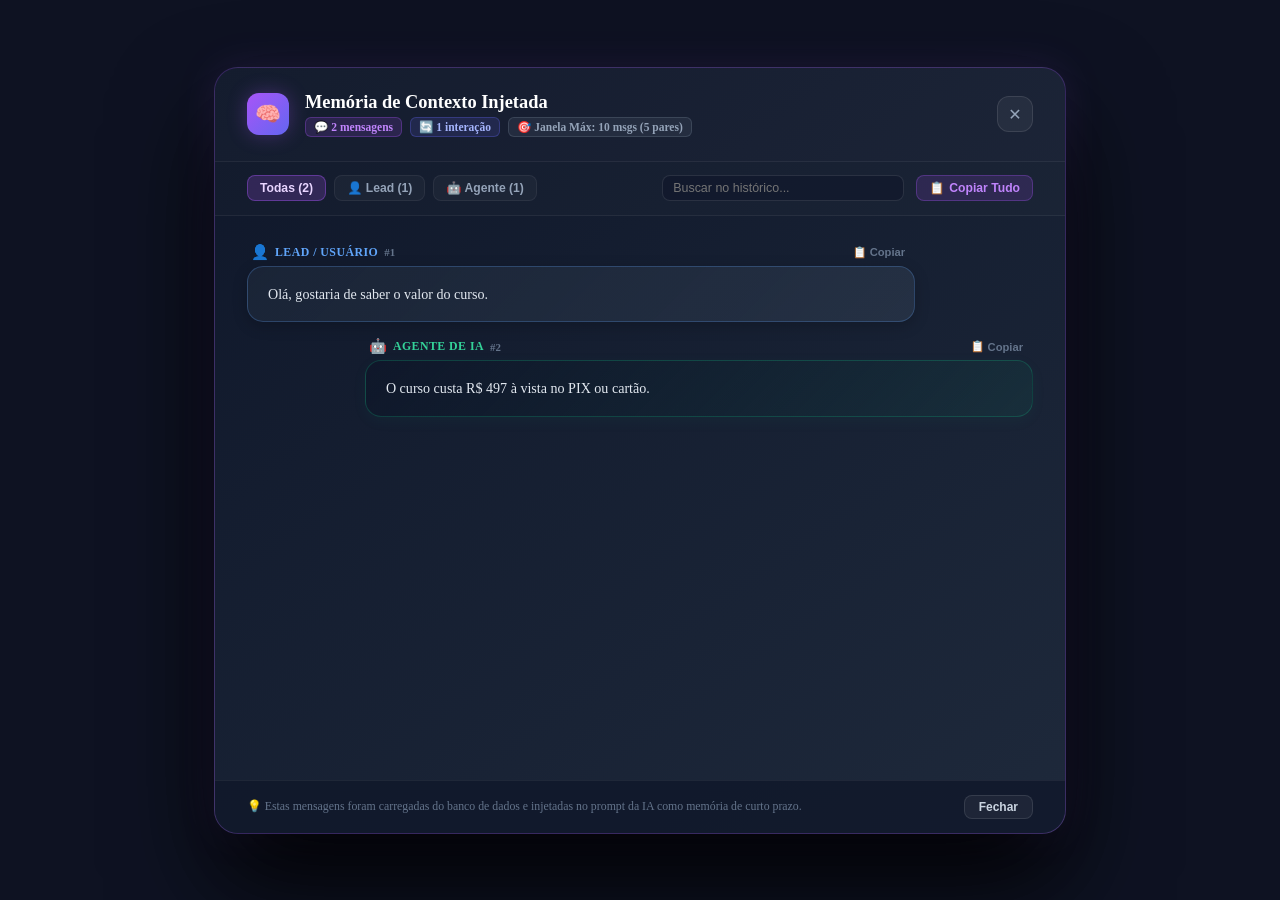
Test: ContextMemoryViewerModal › deve copiar todo o histórico ao clicar no botão Copiar Tudo
Click the text "Copiar Tudo" at [985, 188], box left=949, top=181, right=1020, bottom=195
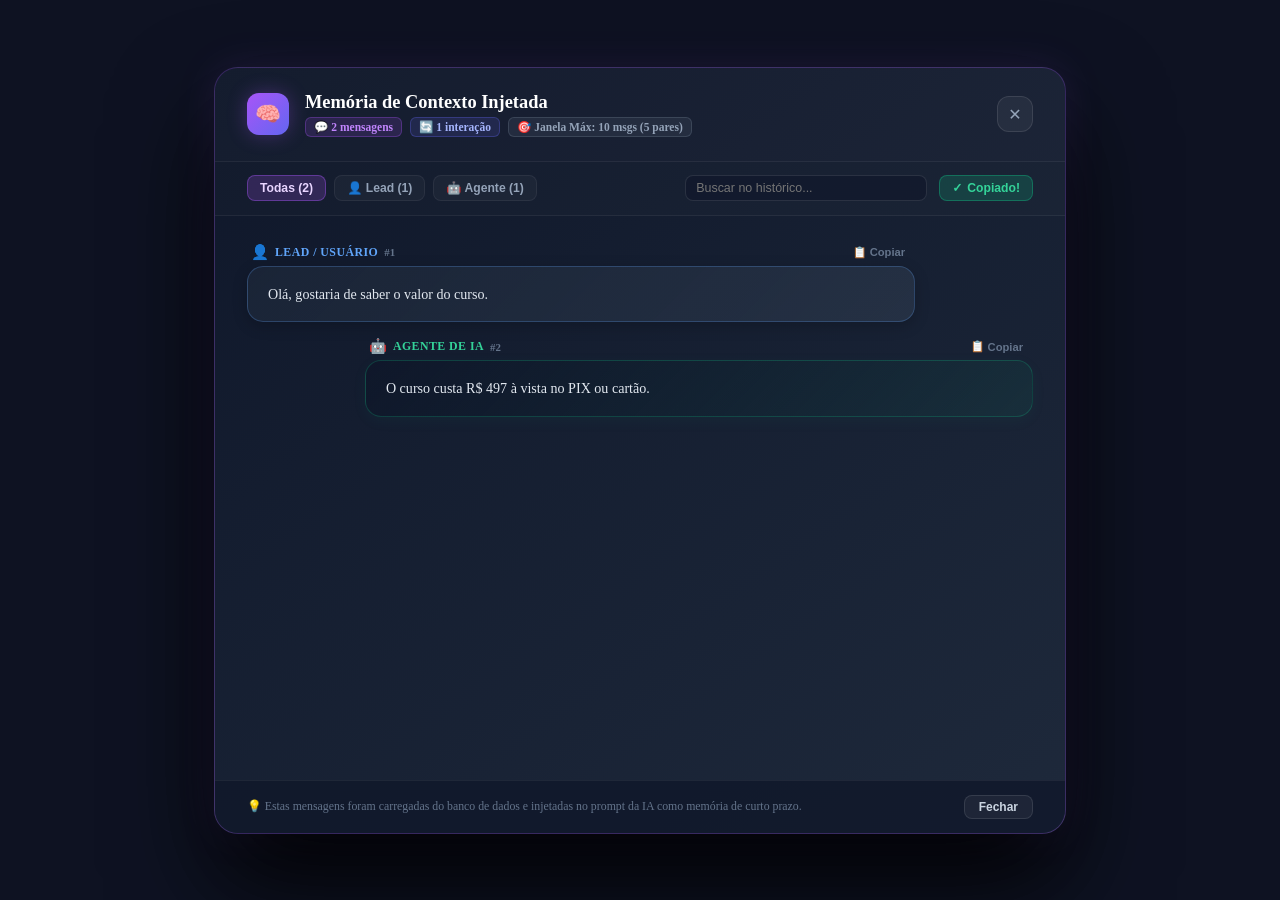
Now the text "Copiado!" is shown, box left=967, top=181, right=1020, bottom=195
